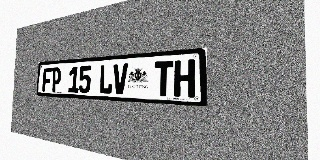1: (68, 66, 80, 93)
5: (79, 65, 91, 93)
F: (42, 68, 52, 92)
H: (174, 59, 195, 98)
L: (99, 64, 113, 94)
P: (51, 67, 61, 92)
T: (154, 60, 174, 97)
V: (113, 63, 128, 95)
